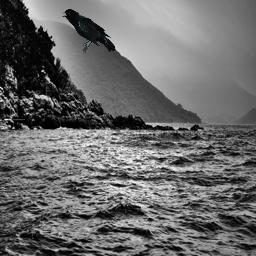Crow: (59, 9, 115, 54)
